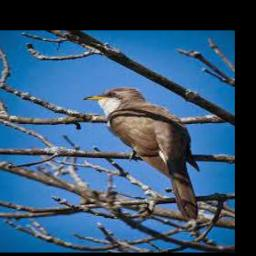Cuckoo: (86, 88, 202, 220)
